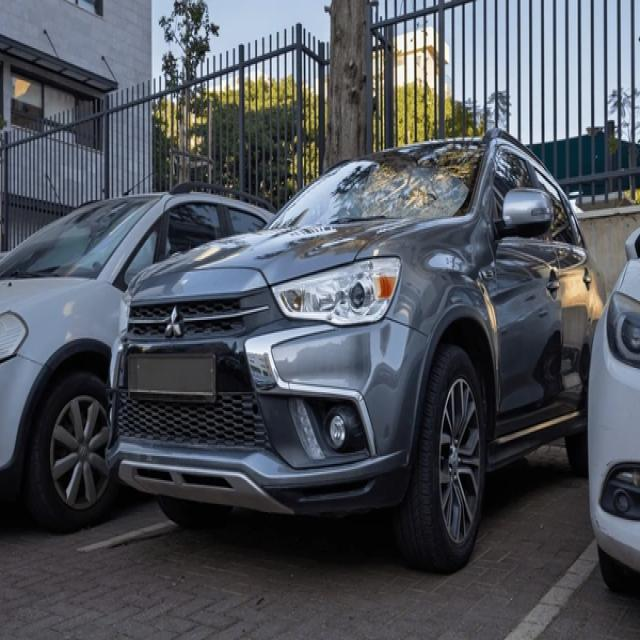mitsubishi: (164, 306, 185, 340)
